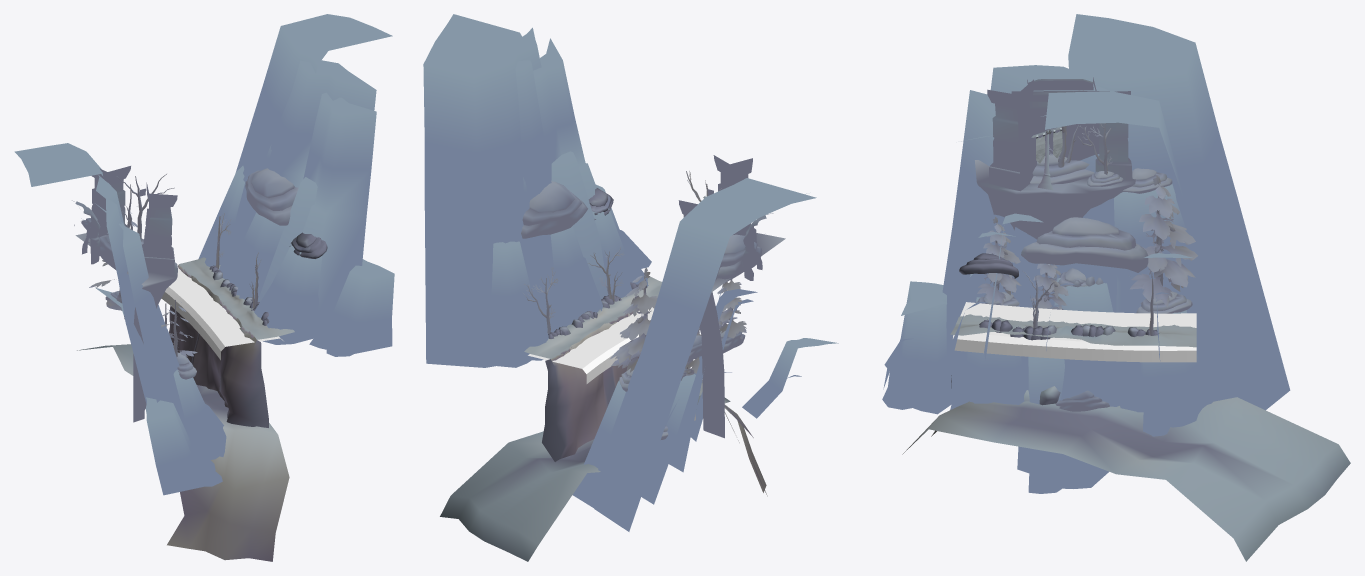
File: Arctic_Narrows_Left_Curve_Right_10_A.glb
3 views of the same model, side by side, from view 1: azimuth 30°, elevation 25°; view 2: azimuth 150°, elevation 25°; view 3: azimuth 270°, elevation 25° (orthographic). The views are drawn at different scales.
Parts seen in each view (by area): view 1: Arctic_Narrows_Left_Curve_Right_10_A, inv_fill; view 2: Arctic_Narrows_Left_Curve_Right_10_A, inv_fill; view 3: Arctic_Narrows_Left_Curve_Right_10_A, inv_fill.
Part boxes in pixels (x1,y1,x2,y2): Arctic_Narrows_Left_Curve_Right_10_A: (14, 14, 394, 561); inv_fill: (161, 266, 283, 360); Arctic_Narrows_Left_Curve_Right_10_A: (423, 14, 838, 561); inv_fill: (528, 307, 653, 383); Arctic_Narrows_Left_Curve_Right_10_A: (882, 14, 1350, 561); inv_fill: (952, 302, 1196, 362).
Size of what is drawn, in the model's own units: 22.34 by 26.14 by 21.9.
